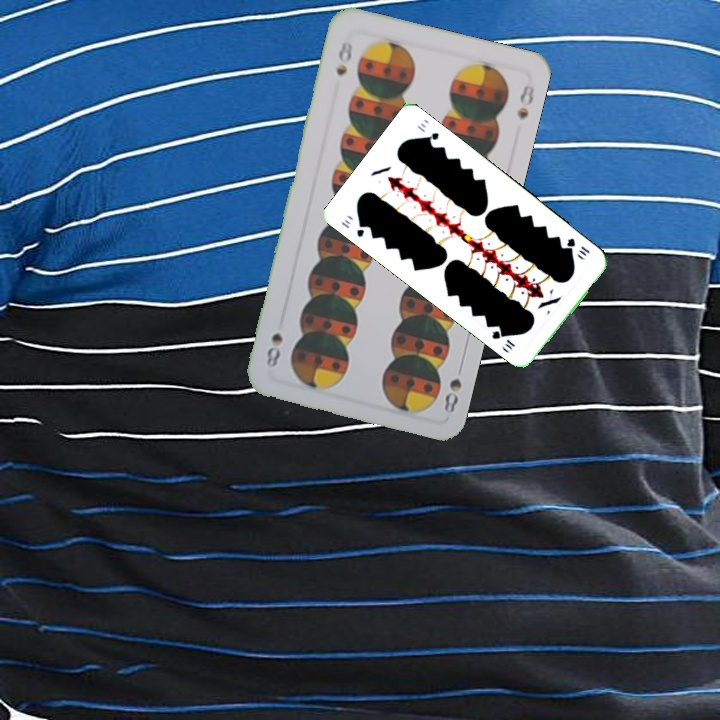G10: (337, 215, 369, 240), (562, 234, 592, 259)
S8: (440, 358, 466, 416), (332, 37, 355, 78)
